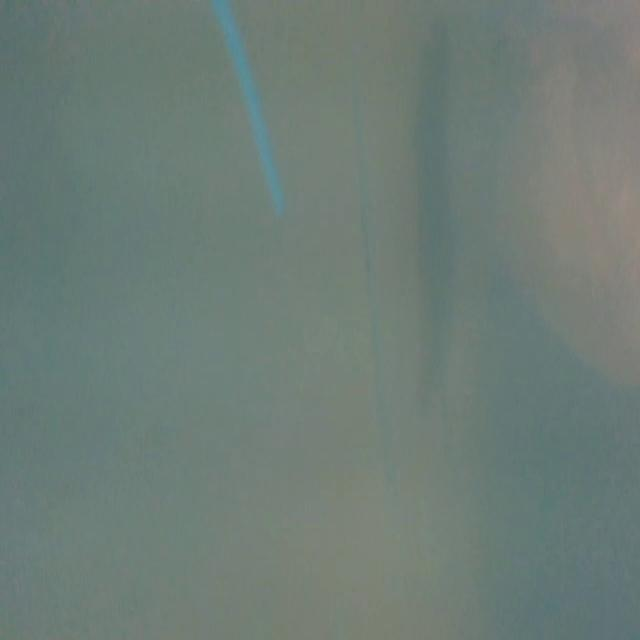plastic bags: (507, 4, 640, 391)
